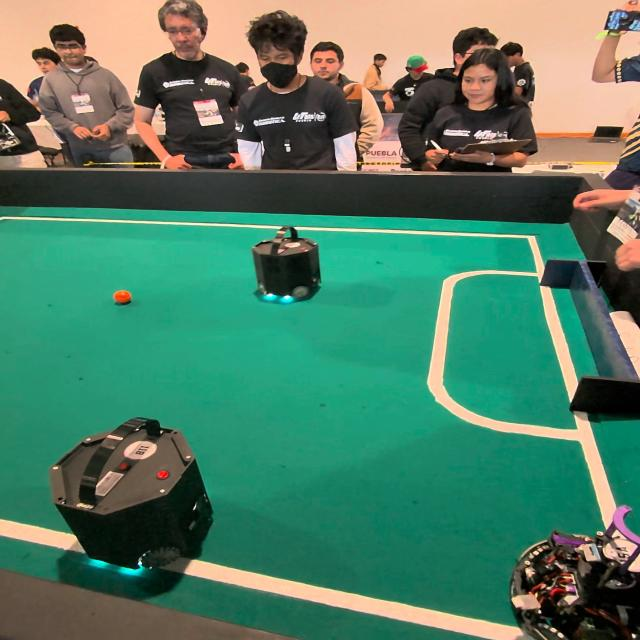Robot: (44, 407, 234, 594), (513, 513, 640, 639), (248, 224, 327, 312)
pelota: (107, 287, 137, 309)
